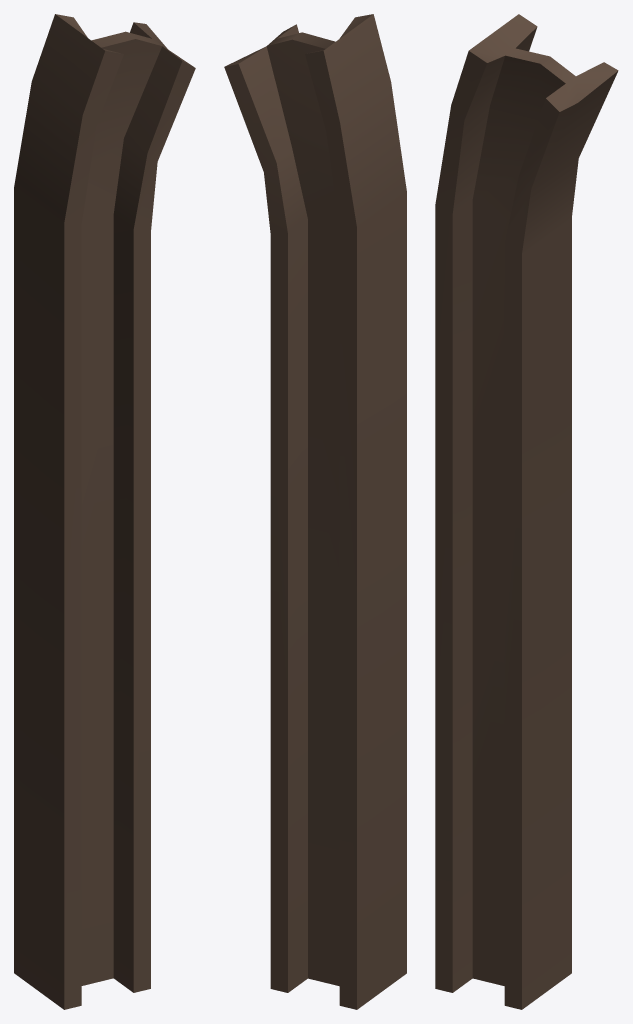
The model's file is DBK_Rebar_Plank_End.fbx.
The picture shows the model from 3 angles, left to right: view 1: azimuth 30°, elevation 25°; view 2: azimuth 150°, elevation 25°; view 3: azimuth 330°, elevation 25°; orthographic projection.
Visible parts, largest first — view 1: DBK_Rebar_Plank_End; view 2: DBK_Rebar_Plank_End; view 3: DBK_Rebar_Plank_End.
Boxes of the visible parts, x1,y1,x2,y2 form: DBK_Rebar_Plank_End: (14,14,195,1009); DBK_Rebar_Plank_End: (224,14,406,1009); DBK_Rebar_Plank_End: (435,14,618,1009).
Size of the model in its own units: 14.74 by 101 by 10.5.
